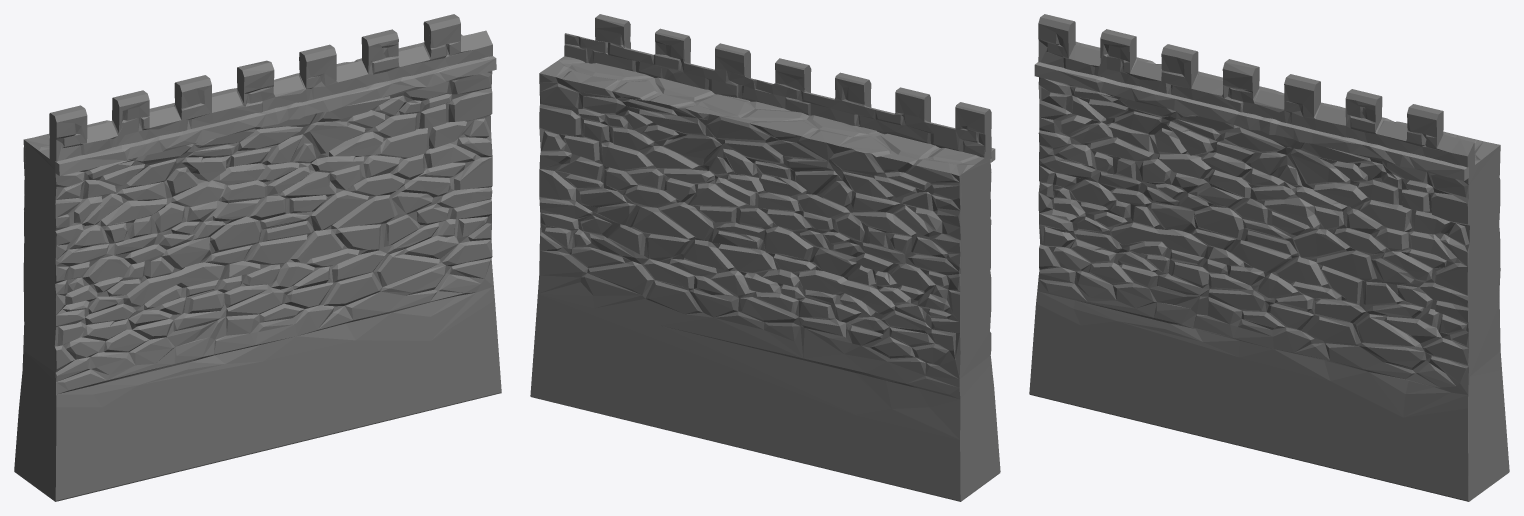
Rendered from castle_battlement_b.FBX.
The picture shows the model from 3 angles, left to right: view 1: azimuth 30°, elevation 25°; view 2: azimuth 150°, elevation 25°; view 3: azimuth 330°, elevation 25°; orthographic projection. The views are drawn at different scales.
Parts seen in each view (by area): view 1: castle_battlement_b; view 2: castle_battlement_b; view 3: castle_battlement_b.
Part boxes in pixels (<box>): castle_battlement_b: <box>14,14,501,501</box>; castle_battlement_b: <box>530,14,1000,501</box>; castle_battlement_b: <box>1029,14,1509,501</box>.
Bounding box in the file's own units: 15.35 × 12.51 × 2.48.
